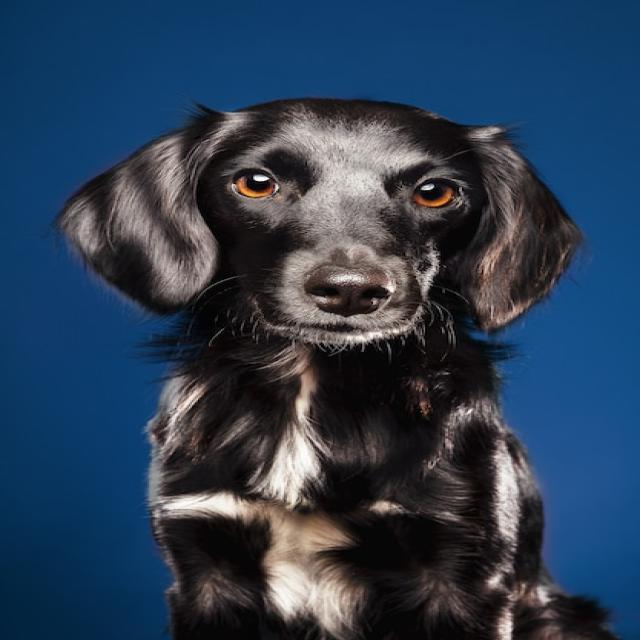Dog: (56, 93, 610, 640)
